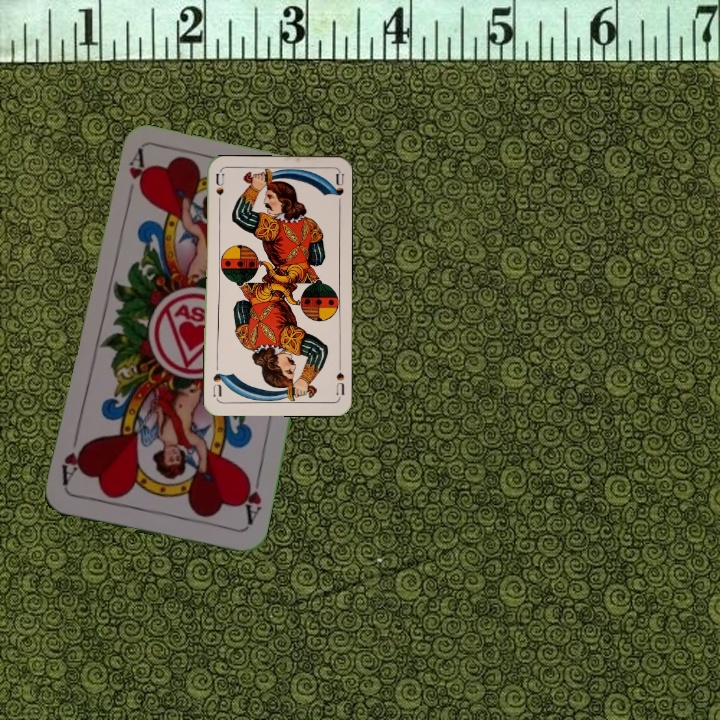HA: (237, 470, 264, 529), (123, 147, 147, 206)
SU: (211, 170, 227, 211), (332, 359, 347, 400)
